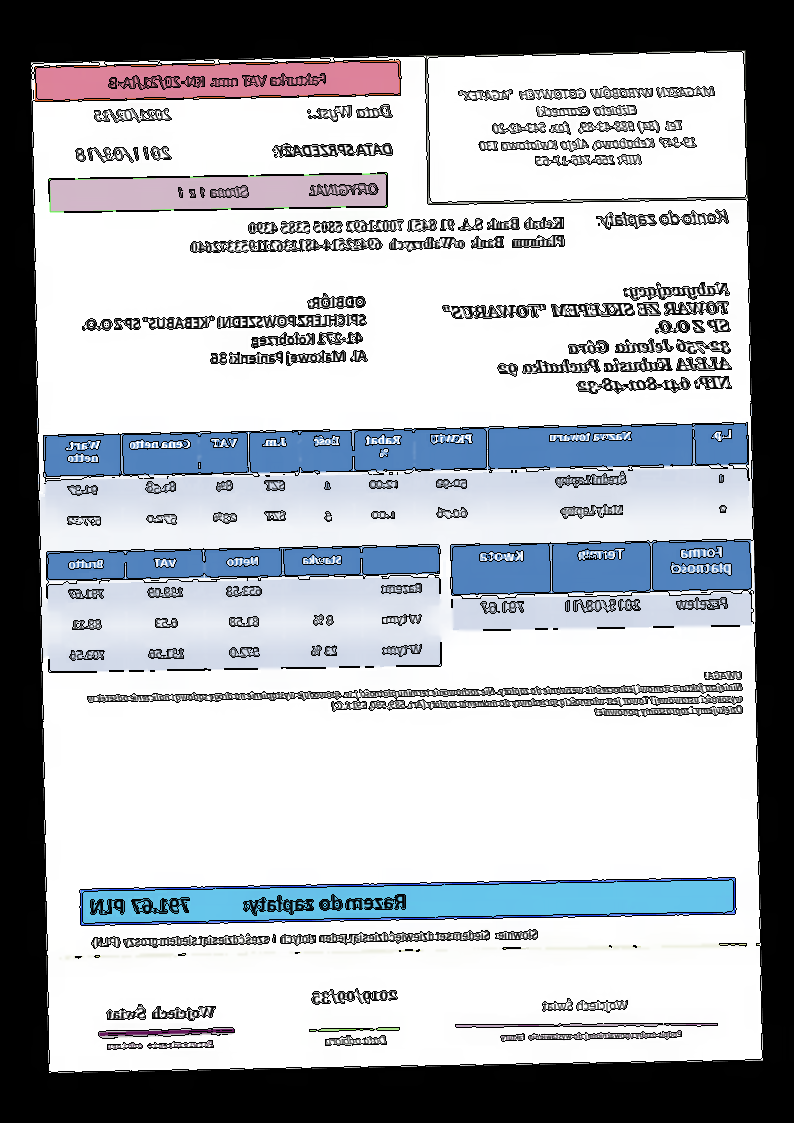Table: (43, 419, 752, 540), (45, 545, 445, 675), (450, 538, 754, 634)
TextBox: (85, 668, 745, 728), (442, 280, 734, 400), (76, 291, 370, 370), (454, 84, 720, 170), (188, 212, 569, 259), (89, 924, 543, 951), (88, 888, 412, 919), (105, 69, 332, 92), (172, 179, 381, 202), (593, 206, 734, 229), (273, 138, 396, 163), (497, 1028, 685, 1044), (102, 1001, 222, 1024), (73, 141, 174, 164), (540, 993, 634, 1015), (93, 101, 172, 127), (303, 101, 396, 123), (308, 985, 402, 1006), (105, 1037, 217, 1052), (323, 1030, 389, 1048)
